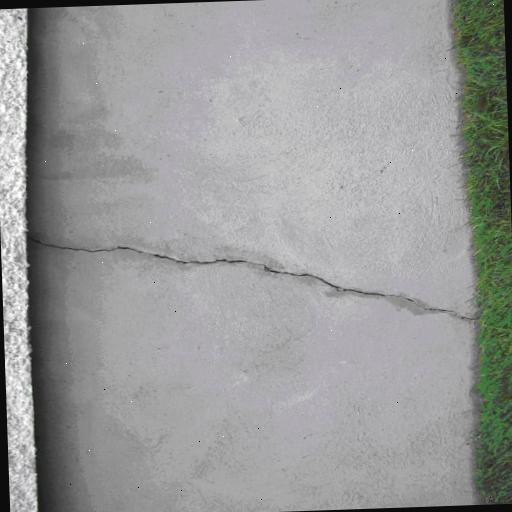spalling: (37, 235, 469, 323)
